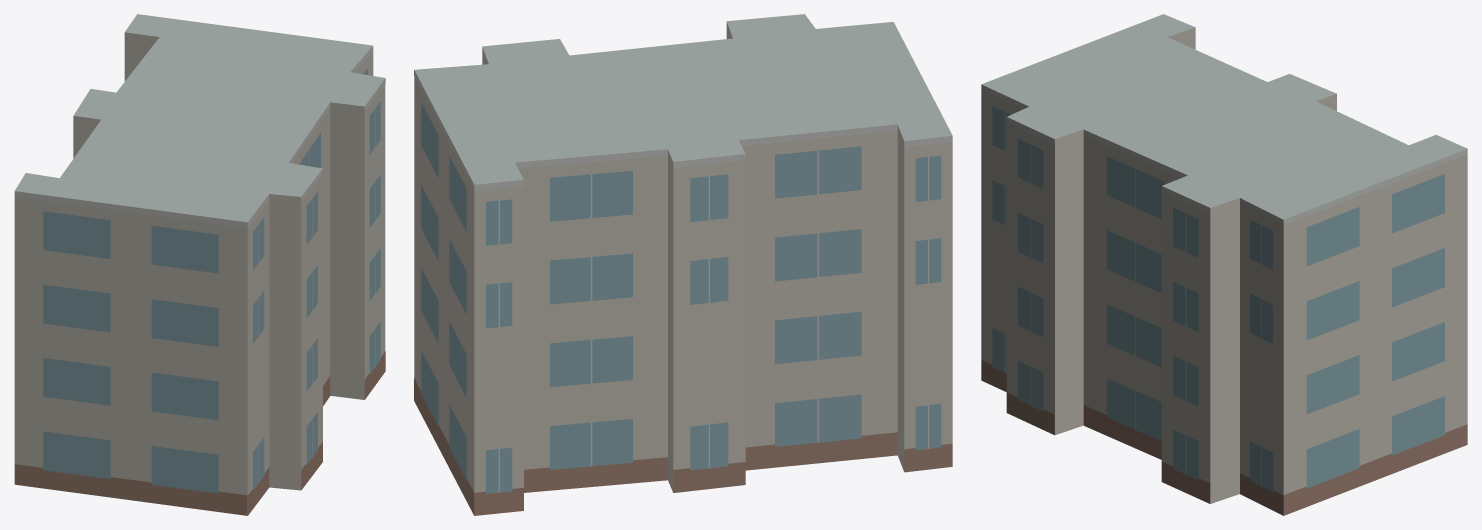
File: survey-upis-32755147.glb
3 views of the same model, side by side, from view 1: azimuth 30°, elevation 25°; view 2: azimuth 150°, elevation 25°; view 3: azimuth 270°, elevation 25° (orthographic). The views are drawn at different scales.
Visible parts, largest first — view 1: survey-upis-32755147.tmp; view 2: survey-upis-32755147.tmp; view 3: survey-upis-32755147.tmp.
Part boxes in pixels (bbox=[...]): survey-upis-32755147.tmp: bbox=[14, 14, 385, 515]; survey-upis-32755147.tmp: bbox=[414, 14, 952, 515]; survey-upis-32755147.tmp: bbox=[981, 14, 1467, 515].
Size of the model in its own units: 19.24 by 12.9 by 19.22.
